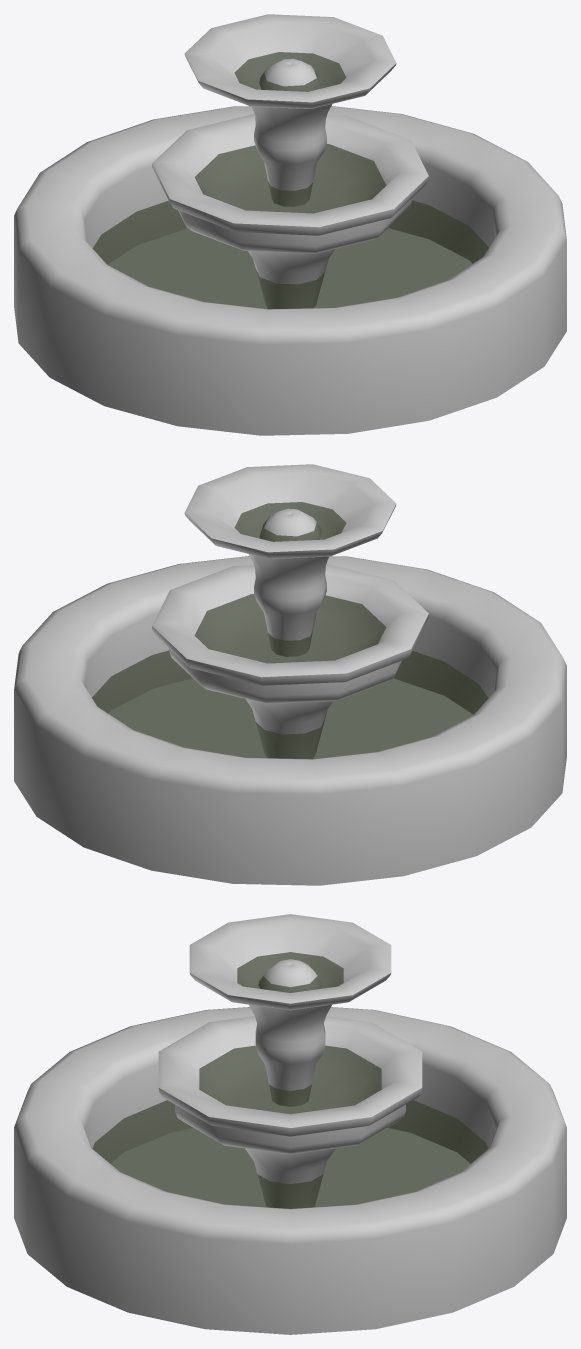
3 renders of one model, top to bottom at view 1: azimuth 30°, elevation 25°; view 2: azimuth 150°, elevation 25°; view 3: azimuth 270°, elevation 25°, orthographic.
Parts seen in each view (by area): view 1: Fountain_LowPoly, Circle.002; view 2: Fountain_LowPoly, Circle.002; view 3: Fountain_LowPoly, Circle.002.
Part boxes in pixels (left/top/right/bottom): Fountain_LowPoly: left=14, top=14, right=566, bottom=435; Circle.002: left=92, top=52, right=488, bottom=309; Fountain_LowPoly: left=14, top=464, right=566, bottom=885; Circle.002: left=92, top=502, right=488, bottom=759; Fountain_LowPoly: left=14, top=914, right=566, bottom=1334; Circle.002: left=92, top=952, right=488, bottom=1208.
Size of the model in its own units: 200 by 104 by 200.
